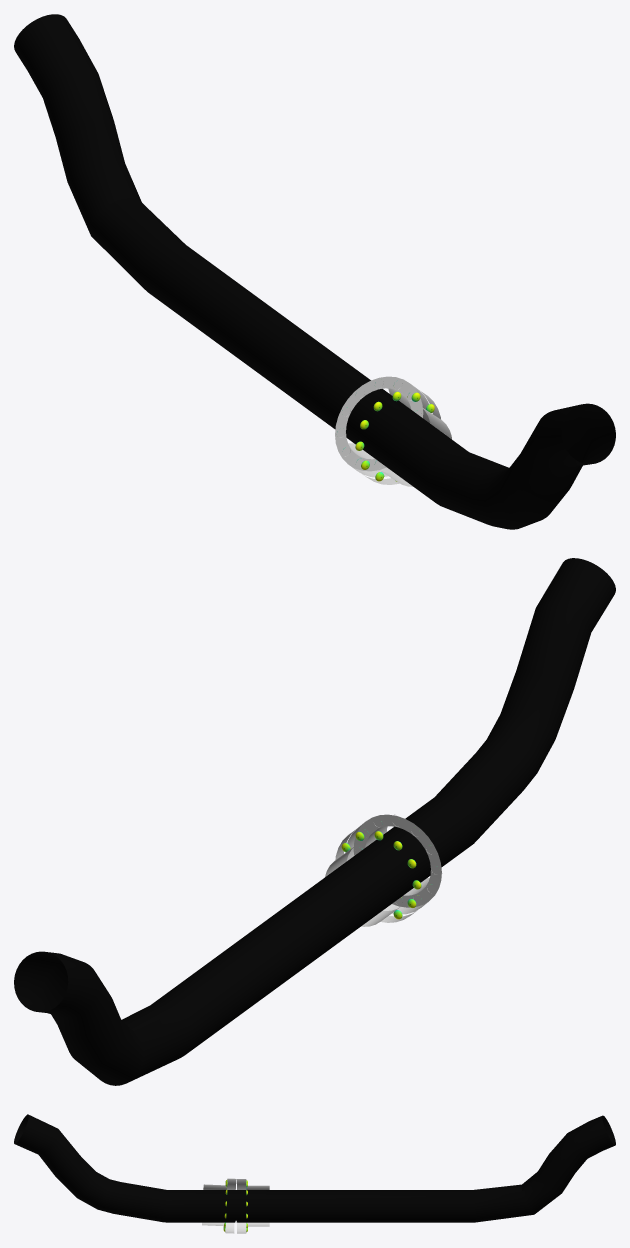
Rendered from pipe.glb.
3 renders of one model, top to bottom at view 1: azimuth 30°, elevation 25°; view 2: azimuth 150°, elevation 25°; view 3: azimuth 270°, elevation 25°, orthographic. The views are drawn at different scales.
Visible parts, largest first — view 1: Cylinder.004, Cylinder, Cylinder.002; view 2: Cylinder.004, Cylinder.002, Cylinder; view 3: Cylinder.004, Cylinder, Cylinder.002.
Boxes of the visible parts, left/top/right/bottom form: Cylinder.004: left=14, top=14, right=615, bottom=529; Cylinder: left=335, top=376, right=430, bottom=477; Cylinder.002: left=364, top=391, right=451, bottom=486; Cylinder.004: left=14, top=558, right=615, bottom=1085; Cylinder.002: left=345, top=814, right=442, bottom=914; Cylinder: left=325, top=829, right=417, bottom=926; Cylinder.004: left=14, top=1114, right=615, bottom=1222; Cylinder: left=237, top=1179, right=269, bottom=1233; Cylinder.002: left=202, top=1178, right=236, bottom=1233.
Bounding box in the file's own units: 1.66 × 3.85 × 18.28.
Materials: 3 (3 with a texture image).
